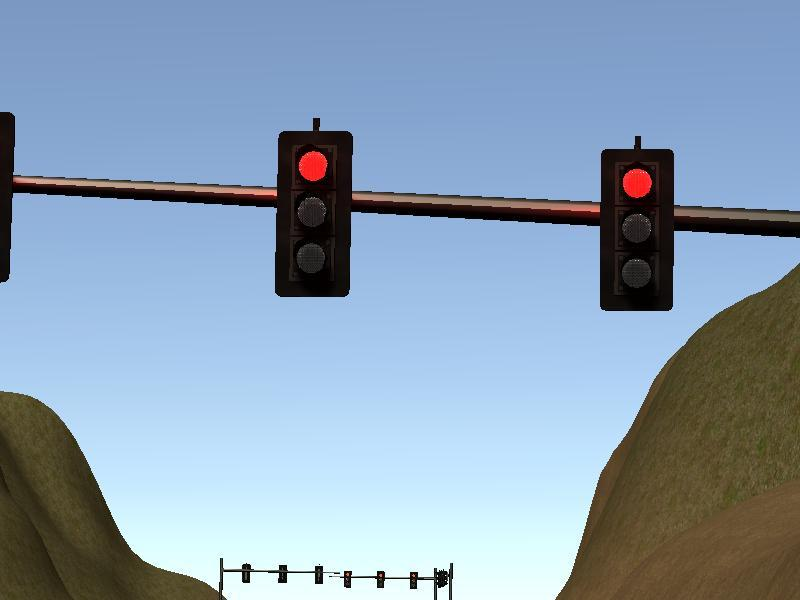Red: (276, 130, 350, 296), (601, 148, 674, 310)
